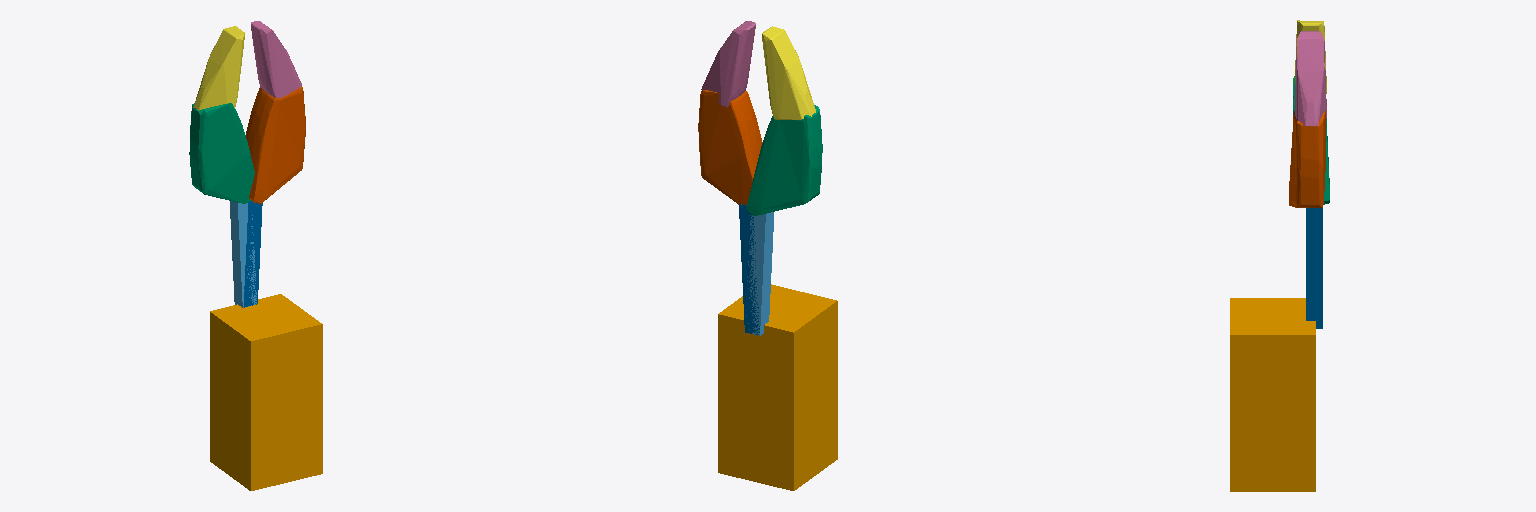
robot.urdf — lbr_iiwa_with_wsg50:
<?xml version="1.0" ?>
<robot name="lbr_iiwa_with_wsg50">
  <joint name="lbr_iiwa_with_wsg50__J0" type="revolute">
    <parent link="lbr_iiwa_with_wsg50__lbr_iiwa_link_0"/>
    <child link="lbr_iiwa_with_wsg50__lbr_iiwa_link_1"/>
    <origin rpy="0 0 0" xyz="0     0     0.1575"/>
    <axis xyz="0 0 1"/>
    <limit effort="300.0" lower="-2.96706" upper="2.96706" velocity="10.0"/>
  </joint>
  <joint name="lbr_iiwa_with_wsg50__J1" type="revolute">
    <parent link="lbr_iiwa_with_wsg50__lbr_iiwa_link_1"/>
    <child link="lbr_iiwa_with_wsg50__lbr_iiwa_link_2"/>
    <origin rpy="1.5708   0      -3.14159" xyz="0     0     0.2025"/>
    <axis xyz="0 0 1"/>
    <limit effort="300.0" lower="-2.0944" upper="2.0944" velocity="10.0"/>
  </joint>
  <joint name="lbr_iiwa_with_wsg50__J2" type="revolute">
    <parent link="lbr_iiwa_with_wsg50__lbr_iiwa_link_2"/>
    <child link="lbr_iiwa_with_wsg50__lbr_iiwa_link_3"/>
    <origin rpy="1.5708   0      -3.14159" xyz="0     0.2045 0"/>
    <axis xyz="0 0 1"/>
    <limit effort="300.0" lower="-2.96706" upper="2.96706" velocity="10.0"/>
  </joint>
  <joint name="lbr_iiwa_with_wsg50__J3" type="revolute">
    <parent link="lbr_iiwa_with_wsg50__lbr_iiwa_link_3"/>
    <child link="lbr_iiwa_with_wsg50__lbr_iiwa_link_4"/>
    <origin rpy="1.5708 0     0" xyz="0     0     0.2155"/>
    <axis xyz="0 0 1"/>
    <limit effort="300.0" lower="-2.0944" upper="2.0944" velocity="10.0"/>
  </joint>
  <joint name="lbr_iiwa_with_wsg50__J4" type="revolute">
    <parent link="lbr_iiwa_with_wsg50__lbr_iiwa_link_4"/>
    <child link="lbr_iiwa_with_wsg50__lbr_iiwa_link_5"/>
    <origin rpy="1.5708  0      3.14159" xyz="0     0.1845 0"/>
    <axis xyz="0 0 1"/>
    <limit effort="300.0" lower="-2.96706" upper="2.96706" velocity="10.0"/>
  </joint>
  <joint name="lbr_iiwa_with_wsg50__J5" type="revolute">
    <parent link="lbr_iiwa_with_wsg50__lbr_iiwa_link_5"/>
    <child link="lbr_iiwa_with_wsg50__lbr_iiwa_link_6"/>
    <origin rpy="1.5708 0     0" xyz="0     0     0.2155"/>
    <axis xyz="0 0 1"/>
    <limit effort="300.0" lower="-2.0944" upper="2.0944" velocity="10.0"/>
  </joint>
  <joint name="lbr_iiwa_with_wsg50__J6" type="revolute">
    <parent link="lbr_iiwa_with_wsg50__lbr_iiwa_link_6"/>
    <child link="lbr_iiwa_with_wsg50__lbr_iiwa_link_7"/>
    <origin rpy="1.5708   0      -3.14159" xyz="0    0.081 0"/>
    <axis xyz="0 0 1"/>
    <limit effort="300.0" lower="-3.05433" upper="3.05433" velocity="10.0"/>
  </joint>
  <joint name="lbr_iiwa_with_wsg50__gripper_to_arm" type="continuous">
    <parent link="lbr_iiwa_with_wsg50__lbr_iiwa_link_7"/>
    <child link="lbr_iiwa_with_wsg50__base_link"/>
    <origin rpy="0 0 0" xyz="0    0    0.044"/>
    <axis xyz="0 0 1"/>
    <limit effort="0" lower="0" upper="0" velocity="0"/>
  </joint>
  <joint name="lbr_iiwa_with_wsg50__base_left_finger_joint" type="revolute">
    <parent link="lbr_iiwa_with_wsg50__base_link"/>
    <child link="lbr_iiwa_with_wsg50__left_finger"/>
    <origin rpy="0   -0.05  0" xyz="0    0.024 0.045"/>
    <axis xyz="0 1 0"/>
    <limit effort="100.0" lower="-10.4" upper="10.01" velocity="0.0"/>
  </joint>
  <joint name="lbr_iiwa_with_wsg50__left_finger_base_joint" type="fixed">
    <parent link="lbr_iiwa_with_wsg50__left_finger"/>
    <child link="lbr_iiwa_with_wsg50__left_finger_base"/>
    <origin rpy="0   -0.25  0" xyz="-0.00099  0       0.08015"/>
    <axis xyz="0 0 0"/>
    <limit effort="0" lower="0" upper="0" velocity="0"/>
  </joint>
  <joint name="lbr_iiwa_with_wsg50__left_base_tip_joint" type="revolute">
    <parent link="lbr_iiwa_with_wsg50__left_finger_base"/>
    <child link="lbr_iiwa_with_wsg50__left_finger_tip"/>
    <origin rpy="0  0.5 0" xyz="0.0034  0      0.06175"/>
    <axis xyz="0 1 0"/>
    <limit effort="0.0" lower="-10.1" upper="10.3" velocity="0.0"/>
  </joint>
  <joint name="lbr_iiwa_with_wsg50__base_right_finger_joint" type="revolute">
    <parent link="lbr_iiwa_with_wsg50__base_link"/>
    <child link="lbr_iiwa_with_wsg50__right_finger"/>
    <origin rpy="0   0.05 0" xyz="0    0.024 0.045"/>
    <axis xyz="0 1 0"/>
    <limit effort="100.0" lower="-10.01" upper="10.4" velocity="0.0"/>
  </joint>
  <joint name="lbr_iiwa_with_wsg50__right_finger_base_joint" type="fixed">
    <parent link="lbr_iiwa_with_wsg50__right_finger"/>
    <child link="lbr_iiwa_with_wsg50__right_finger_base"/>
    <origin rpy="0   0.25 0" xyz="0.00099 0      0.08015"/>
    <axis xyz="0 0 0"/>
    <limit effort="0" lower="0" upper="0" velocity="0"/>
  </joint>
  <joint name="lbr_iiwa_with_wsg50__right_base_tip_joint" type="revolute">
    <parent link="lbr_iiwa_with_wsg50__right_finger_base"/>
    <child link="lbr_iiwa_with_wsg50__right_finger_tip"/>
    <origin rpy="0  -0.5  0" xyz="-0.0034   0       0.06175"/>
    <axis xyz="0 1 0"/>
    <limit effort="0.0" lower="-10.3" upper="10.1" velocity="0.0"/>
  </joint>
  <link name="lbr_iiwa_with_wsg50__lbr_iiwa_link_0">
    <inertial>
      <mass value="0"/>
      <origin rpy="0 0 0" xyz="-0.1   0    0.07"/>
      <inertia ixx="0.05" ixy="0" ixz="0" iyy="0.06" iyz="0" izz="0.03"/>
    </inertial>
    <collision name="lbr_iiwa_with_wsg50__lbr_iiwa_link_0_collision">
      <origin rpy="0 0 0" xyz="0 0 0"/>
      <geometry>
        <mesh filename="meshes/finger_tip_left.stl OR meshes/link_3.stl OR meshes/finger_base_right.stl OR meshes/link_5.stl OR meshes/link_7.stl OR meshes/link_0.stl OR meshes/finger_tip_right.stl OR meshes/link_1.stl OR meshes/link_4.stl OR meshes/link_6.stl OR meshes/link_2.stl OR meshes/finger_base_left.stl" scale="1 1 1"/>
      </geometry>
    </collision>
    <visual name="lbr_iiwa_with_wsg50__lbr_iiwa_link_0_visual">
      <origin rpy="0 0 0" xyz="0 0 0"/>
      <geometry>
        <mesh filename="meshes/link_0.obj " scale="1 1 1"/>
      </geometry>
    </visual>
  </link>
  <link name="lbr_iiwa_with_wsg50__lbr_iiwa_link_1">
    <inertial>
      <mass value="4"/>
      <origin rpy="0 0 0" xyz="0   -0.03  0.12"/>
      <inertia ixx="0.1" ixy="0" ixz="0" iyy="0.09" iyz="0" izz="0.02"/>
    </inertial>
    <collision name="lbr_iiwa_with_wsg50__lbr_iiwa_link_1_collision">
      <origin rpy="0 0 0" xyz="0 0 0"/>
      <geometry>
        <mesh filename="meshes/finger_tip_left.stl OR meshes/link_3.stl OR meshes/finger_base_right.stl OR meshes/link_5.stl OR meshes/link_7.stl OR meshes/link_0.stl OR meshes/finger_tip_right.stl OR meshes/link_1.stl OR meshes/link_4.stl OR meshes/link_6.stl OR meshes/link_2.stl OR meshes/finger_base_left.stl" scale="1 1 1"/>
      </geometry>
    </collision>
    <visual name="lbr_iiwa_with_wsg50__lbr_iiwa_link_1_visual">
      <origin rpy="0 0 0" xyz="0 0 0"/>
      <geometry>
        <mesh filename="meshes/link_1.obj " scale="1 1 1"/>
      </geometry>
    </visual>
  </link>
  <link name="lbr_iiwa_with_wsg50__lbr_iiwa_link_2">
    <inertial>
      <mass value="4"/>
      <origin rpy="0 0 0" xyz="0.00029 0.059   0.042"/>
      <inertia ixx="0.05" ixy="0" ixz="0" iyy="0.018" iyz="0" izz="0.044"/>
    </inertial>
    <collision name="lbr_iiwa_with_wsg50__lbr_iiwa_link_2_collision">
      <origin rpy="0 0 0" xyz="0 0 0"/>
      <geometry>
        <mesh filename="meshes/finger_tip_left.stl OR meshes/link_3.stl OR meshes/finger_base_right.stl OR meshes/link_5.stl OR meshes/link_7.stl OR meshes/link_0.stl OR meshes/finger_tip_right.stl OR meshes/link_1.stl OR meshes/link_4.stl OR meshes/link_6.stl OR meshes/link_2.stl OR meshes/finger_base_left.stl" scale="1 1 1"/>
      </geometry>
    </collision>
    <visual name="lbr_iiwa_with_wsg50__lbr_iiwa_link_2_visual">
      <origin rpy="0 0 0" xyz="0 0 0"/>
      <geometry>
        <mesh filename="meshes/link_2.obj " scale="1 1 1"/>
      </geometry>
    </visual>
  </link>
  <link name="lbr_iiwa_with_wsg50__lbr_iiwa_link_3">
    <inertial>
      <mass value="3"/>
      <origin rpy="0 0 0" xyz="0   0.03 0.13"/>
      <inertia ixx="0.08" ixy="0" ixz="0" iyy="0.075" iyz="0" izz="0.01"/>
    </inertial>
    <collision name="lbr_iiwa_with_wsg50__lbr_iiwa_link_3_collision">
      <origin rpy="0 0 0" xyz="0 0 0"/>
      <geometry>
        <mesh filename="meshes/finger_tip_left.stl OR meshes/link_3.stl OR meshes/finger_base_right.stl OR meshes/link_5.stl OR meshes/link_7.stl OR meshes/link_0.stl OR meshes/finger_tip_right.stl OR meshes/link_1.stl OR meshes/link_4.stl OR meshes/link_6.stl OR meshes/link_2.stl OR meshes/finger_base_left.stl" scale="1 1 1"/>
      </geometry>
    </collision>
    <visual name="lbr_iiwa_with_wsg50__lbr_iiwa_link_3_visual">
      <origin rpy="0 0 0" xyz="0 0 0"/>
      <geometry>
        <mesh filename="meshes/link_3.obj " scale="1 1 1"/>
      </geometry>
    </visual>
  </link>
  <link name="lbr_iiwa_with_wsg50__lbr_iiwa_link_4">
    <inertial>
      <mass value="2.7"/>
      <origin rpy="0 0 0" xyz="0    0.067 0.034"/>
      <inertia ixx="0.03" ixy="0" ixz="0" iyy="0.01" iyz="0" izz="0.029"/>
    </inertial>
    <collision name="lbr_iiwa_with_wsg50__lbr_iiwa_link_4_collision">
      <origin rpy="0 0 0" xyz="0 0 0"/>
      <geometry>
        <mesh filename="meshes/finger_tip_left.stl OR meshes/link_3.stl OR meshes/finger_base_right.stl OR meshes/link_5.stl OR meshes/link_7.stl OR meshes/link_0.stl OR meshes/finger_tip_right.stl OR meshes/link_1.stl OR meshes/link_4.stl OR meshes/link_6.stl OR meshes/link_2.stl OR meshes/finger_base_left.stl" scale="1 1 1"/>
      </geometry>
    </collision>
    <visual name="lbr_iiwa_with_wsg50__lbr_iiwa_link_4_visual">
      <origin rpy="0 0 0" xyz="0 0 0"/>
      <geometry>
        <mesh filename="meshes/link_4.obj " scale="1 1 1"/>
      </geometry>
    </visual>
  </link>
  <link name="lbr_iiwa_with_wsg50__lbr_iiwa_link_5">
    <inertial>
      <mass value="1.7"/>
      <origin rpy="0 0 0" xyz="0.0001 0.021  0.076"/>
      <inertia ixx="0.02" ixy="0" ixz="0" iyy="0.018" iyz="0" izz="0.005"/>
    </inertial>
    <collision name="lbr_iiwa_with_wsg50__lbr_iiwa_link_5_collision">
      <origin rpy="0 0 0" xyz="0 0 0"/>
      <geometry>
        <mesh filename="meshes/finger_tip_left.stl OR meshes/link_3.stl OR meshes/finger_base_right.stl OR meshes/link_5.stl OR meshes/link_7.stl OR meshes/link_0.stl OR meshes/finger_tip_right.stl OR meshes/link_1.stl OR meshes/link_4.stl OR meshes/link_6.stl OR meshes/link_2.stl OR meshes/finger_base_left.stl" scale="1 1 1"/>
      </geometry>
    </collision>
    <visual name="lbr_iiwa_with_wsg50__lbr_iiwa_link_5_visual">
      <origin rpy="0 0 0" xyz="0 0 0"/>
      <geometry>
        <mesh filename="meshes/link_5.obj " scale="1 1 1"/>
      </geometry>
    </visual>
  </link>
  <link name="lbr_iiwa_with_wsg50__lbr_iiwa_link_6">
    <inertial>
      <mass value="1.8"/>
      <origin rpy="0 0 0" xyz="0      0.00059 0.0004"/>
      <inertia ixx="0.005" ixy="0" ixz="0" iyy="0.0036" iyz="0" izz="0.0047"/>
    </inertial>
    <collision name="lbr_iiwa_with_wsg50__lbr_iiwa_link_6_collision">
      <origin rpy="0 0 0" xyz="0 0 0"/>
      <geometry>
        <mesh filename="meshes/finger_tip_left.stl OR meshes/link_3.stl OR meshes/finger_base_right.stl OR meshes/link_5.stl OR meshes/link_7.stl OR meshes/link_0.stl OR meshes/finger_tip_right.stl OR meshes/link_1.stl OR meshes/link_4.stl OR meshes/link_6.stl OR meshes/link_2.stl OR meshes/finger_base_left.stl" scale="1 1 1"/>
      </geometry>
    </collision>
    <visual name="lbr_iiwa_with_wsg50__lbr_iiwa_link_6_visual">
      <origin rpy="0 0 0" xyz="0 0 0"/>
      <geometry>
        <mesh filename="meshes/link_6.obj " scale="1 1 1"/>
      </geometry>
    </visual>
  </link>
  <link name="lbr_iiwa_with_wsg50__lbr_iiwa_link_7">
    <inertial>
      <mass value="1.3"/>
      <origin rpy="0 0 0" xyz="0   0   0.02"/>
      <inertia ixx="0.001" ixy="0" ixz="0" iyy="0.001" iyz="0" izz="0.001"/>
    </inertial>
    <collision name="lbr_iiwa_with_wsg50__lbr_iiwa_link_7_collision">
      <origin rpy="0 0 0" xyz="0 0 0"/>
      <geometry>
        <mesh filename="meshes/finger_tip_left.stl OR meshes/link_3.stl OR meshes/finger_base_right.stl OR meshes/link_5.stl OR meshes/link_7.stl OR meshes/link_0.stl OR meshes/finger_tip_right.stl OR meshes/link_1.stl OR meshes/link_4.stl OR meshes/link_6.stl OR meshes/link_2.stl OR meshes/finger_base_left.stl" scale="1 1 1"/>
      </geometry>
    </collision>
    <visual name="lbr_iiwa_with_wsg50__lbr_iiwa_link_7_visual">
      <origin rpy="0 0 0" xyz="0 0 0"/>
      <geometry>
        <mesh filename="meshes/link_7.obj " scale="1 1 1"/>
      </geometry>
    </visual>
  </link>
  <link name="lbr_iiwa_with_wsg50__base_link">
    <inertial>
      <mass value="0.2"/>
      <origin rpy="0 0 0" xyz="0 0 0"/>
      <inertia ixx="1" ixy="0" ixz="0" iyy="1" iyz="0" izz="1"/>
    </inertial>
    <collision name="lbr_iiwa_with_wsg50__base_link_collision">
      <origin rpy="0 0 0" xyz="0 0 0"/>
      <geometry>
        <box size="0.05 0.05 0.1"/>
      </geometry>
    </collision>
    <visual name="lbr_iiwa_with_wsg50__base_link_visual">
      <origin rpy="0 0 0" xyz="0 0 0"/>
      <geometry>
        <box size="0.05 0.05 0.1"/>
      </geometry>
    </visual>
  </link>
  <link name="lbr_iiwa_with_wsg50__left_finger">
    <inertial>
      <mass value="0.2"/>
      <origin rpy="0 0 0" xyz="0   0   0.04"/>
      <inertia ixx="0.1" ixy="0" ixz="0" iyy="0.1" iyz="0" izz="0.1"/>
    </inertial>
    <collision name="lbr_iiwa_with_wsg50__left_finger_collision">
      <origin rpy="0 0 0" xyz="0   0   0.04"/>
      <geometry>
        <box size="0.01 0.01 0.08"/>
      </geometry>
    </collision>
    <visual name="lbr_iiwa_with_wsg50__left_finger_visual">
      <origin rpy="0 0 0" xyz="0   0   0.04"/>
      <geometry>
        <box size="0.01 0.01 0.08"/>
      </geometry>
    </visual>
  </link>
  <link name="lbr_iiwa_with_wsg50__left_finger_base">
    <inertial>
      <mass value="0.2"/>
      <origin rpy="0 0 0" xyz="-0.003  0     0.04"/>
      <inertia ixx="0.1" ixy="0" ixz="0" iyy="0.1" iyz="0" izz="0.1"/>
    </inertial>
    <collision name="lbr_iiwa_with_wsg50__left_finger_base_collision">
      <origin rpy="0 0 0" xyz="0 0 0"/>
      <geometry>
        <mesh filename="meshes/finger_tip_left.stl OR meshes/link_3.stl OR meshes/finger_base_right.stl OR meshes/link_5.stl OR meshes/link_7.stl OR meshes/link_0.stl OR meshes/finger_tip_right.stl OR meshes/link_1.stl OR meshes/link_4.stl OR meshes/link_6.stl OR meshes/link_2.stl OR meshes/finger_base_left.stl" scale="1 1 1"/>
      </geometry>
    </collision>
    <visual name="lbr_iiwa_with_wsg50__left_finger_base_visual">
      <origin rpy="0 0 0" xyz="0 0 0"/>
      <geometry>
        <mesh filename="meshes/finger_base_left.obj " scale="1 1 1"/>
      </geometry>
    </visual>
  </link>
  <link name="lbr_iiwa_with_wsg50__left_finger_tip">
    <inertial>
      <mass value="0.2"/>
      <origin rpy="0 0 0" xyz="-0.005  0     0.026"/>
      <inertia ixx="0.1" ixy="0" ixz="0" iyy="0.1" iyz="0" izz="0.1"/>
    </inertial>
    <collision name="lbr_iiwa_with_wsg50__left_finger_tip_collision">
      <origin rpy="0 0 0" xyz="0 0 0"/>
      <geometry>
        <mesh filename="meshes/finger_tip_left.stl OR meshes/link_3.stl OR meshes/finger_base_right.stl OR meshes/link_5.stl OR meshes/link_7.stl OR meshes/link_0.stl OR meshes/finger_tip_right.stl OR meshes/link_1.stl OR meshes/link_4.stl OR meshes/link_6.stl OR meshes/link_2.stl OR meshes/finger_base_left.stl" scale="1 1 1"/>
      </geometry>
    </collision>
    <visual name="lbr_iiwa_with_wsg50__left_finger_tip_visual">
      <origin rpy="0 0 0" xyz="0 0 0"/>
      <geometry>
        <mesh filename="meshes/finger_tip_left.obj " scale="1 1 1"/>
      </geometry>
    </visual>
  </link>
  <link name="lbr_iiwa_with_wsg50__right_finger">
    <inertial>
      <mass value="0.2"/>
      <origin rpy="0 0 0" xyz="0   0   0.04"/>
      <inertia ixx="0.1" ixy="0" ixz="0" iyy="0.1" iyz="0" izz="0.1"/>
    </inertial>
    <collision name="lbr_iiwa_with_wsg50__right_finger_collision">
      <origin rpy="0 0 0" xyz="0   0   0.04"/>
      <geometry>
        <box size="0.01 0.01 0.08"/>
      </geometry>
    </collision>
    <visual name="lbr_iiwa_with_wsg50__right_finger_visual">
      <origin rpy="0 0 0" xyz="0   0   0.04"/>
      <geometry>
        <box size="0.01 0.01 0.08"/>
      </geometry>
    </visual>
  </link>
  <link name="lbr_iiwa_with_wsg50__right_finger_base">
    <inertial>
      <mass value="0.2"/>
      <origin rpy="0 0 0" xyz="0.003 0    0.04"/>
      <inertia ixx="0.1" ixy="0" ixz="0" iyy="0.1" iyz="0" izz="0.1"/>
    </inertial>
    <collision name="lbr_iiwa_with_wsg50__right_finger_base_collision">
      <origin rpy="0 0 0" xyz="0 0 0"/>
      <geometry>
        <mesh filename="meshes/finger_tip_left.stl OR meshes/link_3.stl OR meshes/finger_base_right.stl OR meshes/link_5.stl OR meshes/link_7.stl OR meshes/link_0.stl OR meshes/finger_tip_right.stl OR meshes/link_1.stl OR meshes/link_4.stl OR meshes/link_6.stl OR meshes/link_2.stl OR meshes/finger_base_left.stl" scale="1 1 1"/>
      </geometry>
    </collision>
    <visual name="lbr_iiwa_with_wsg50__right_finger_base_visual">
      <origin rpy="0 0 0" xyz="0 0 0"/>
      <geometry>
        <mesh filename="meshes/finger_base_right.obj " scale="1 1 1"/>
      </geometry>
    </visual>
  </link>
  <link name="lbr_iiwa_with_wsg50__right_finger_tip">
    <inertial>
      <mass value="0.2"/>
      <origin rpy="0 0 0" xyz="0.005 0    0.026"/>
      <inertia ixx="0.1" ixy="0" ixz="0" iyy="0.1" iyz="0" izz="0.1"/>
    </inertial>
    <collision name="lbr_iiwa_with_wsg50__right_finger_tip_collision">
      <origin rpy="0 0 0" xyz="0 0 0"/>
      <geometry>
        <mesh filename="meshes/finger_tip_left.stl OR meshes/link_3.stl OR meshes/finger_base_right.stl OR meshes/link_5.stl OR meshes/link_7.stl OR meshes/link_0.stl OR meshes/finger_tip_right.stl OR meshes/link_1.stl OR meshes/link_4.stl OR meshes/link_6.stl OR meshes/link_2.stl OR meshes/finger_base_left.stl" scale="1 1 1"/>
      </geometry>
    </collision>
    <visual name="lbr_iiwa_with_wsg50__right_finger_visual">
      <origin rpy="0 0 0" xyz="0 0 0"/>
      <geometry>
        <mesh filename="meshes/finger_tip_right.obj " scale="1 1 1"/>
      </geometry>
    </visual>
  </link>
</robot>

--- Render facts (derived) ---
3 views of the same robot in one strip: view 1: azimuth 30°, elevation 25°; view 2: azimuth 150°, elevation 25°; view 3: azimuth 270°, elevation 25° (orthographic).
Model lbr_iiwa_with_wsg50 with 15 links and 14 joints (11 revolute, 1 continuous, 2 fixed), rooted at lbr_iiwa_with_wsg50__lbr_iiwa_link_0, posed all joints at 0.
Links seen in each view (by area): view 1: lbr_iiwa_with_wsg50__base_link, lbr_iiwa_with_wsg50__left_finger_base, lbr_iiwa_with_wsg50__right_finger_base, lbr_iiwa_with_wsg50__left_finger_tip, lbr_iiwa_with_wsg50__right_finger_tip, lbr_iiwa_with_wsg50__left_finger, lbr_iiwa_with_wsg50__right_finger; view 2: lbr_iiwa_with_wsg50__base_link, lbr_iiwa_with_wsg50__left_finger_base, lbr_iiwa_with_wsg50__right_finger_base, lbr_iiwa_with_wsg50__left_finger_tip, lbr_iiwa_with_wsg50__right_finger_tip, lbr_iiwa_with_wsg50__left_finger, lbr_iiwa_with_wsg50__right_finger; view 3: lbr_iiwa_with_wsg50__base_link, lbr_iiwa_with_wsg50__right_finger_base, lbr_iiwa_with_wsg50__right_finger_tip, lbr_iiwa_with_wsg50__right_finger.
Link boxes in pixels (left/top/right/bottom): lbr_iiwa_with_wsg50__base_link: left=210, top=294, right=322, bottom=490; lbr_iiwa_with_wsg50__left_finger_base: left=189, top=103, right=254, bottom=203; lbr_iiwa_with_wsg50__right_finger_base: left=246, top=86, right=305, bottom=203; lbr_iiwa_with_wsg50__left_finger_tip: left=193, top=26, right=244, bottom=110; lbr_iiwa_with_wsg50__right_finger_tip: left=251, top=21, right=301, bottom=97; lbr_iiwa_with_wsg50__left_finger: left=230, top=201, right=256, bottom=307; lbr_iiwa_with_wsg50__right_finger: left=244, top=201, right=262, bottom=307; lbr_iiwa_with_wsg50__base_link: left=718, top=284, right=837, bottom=490; lbr_iiwa_with_wsg50__left_finger_base: left=746, top=105, right=822, bottom=215; lbr_iiwa_with_wsg50__right_finger_base: left=698, top=90, right=762, bottom=204; lbr_iiwa_with_wsg50__left_finger_tip: left=762, top=26, right=815, bottom=119; lbr_iiwa_with_wsg50__right_finger_tip: left=701, top=21, right=755, bottom=107; lbr_iiwa_with_wsg50__left_finger: left=746, top=212, right=773, bottom=335; lbr_iiwa_with_wsg50__right_finger: left=739, top=204, right=759, bottom=334; lbr_iiwa_with_wsg50__base_link: left=1230, top=298, right=1315, bottom=491; lbr_iiwa_with_wsg50__right_finger_base: left=1289, top=110, right=1325, bottom=207; lbr_iiwa_with_wsg50__right_finger_tip: left=1295, top=31, right=1326, bottom=125; lbr_iiwa_with_wsg50__right_finger: left=1306, top=208, right=1322, bottom=328.
Size in the robot's own frame: 0.0753 by 0.058 by 0.2846 metres.
4 mesh visuals loaded from 12 distinct referenced files (4 OBJ); not drawn: 8 (reference not matched to a file when rendering).